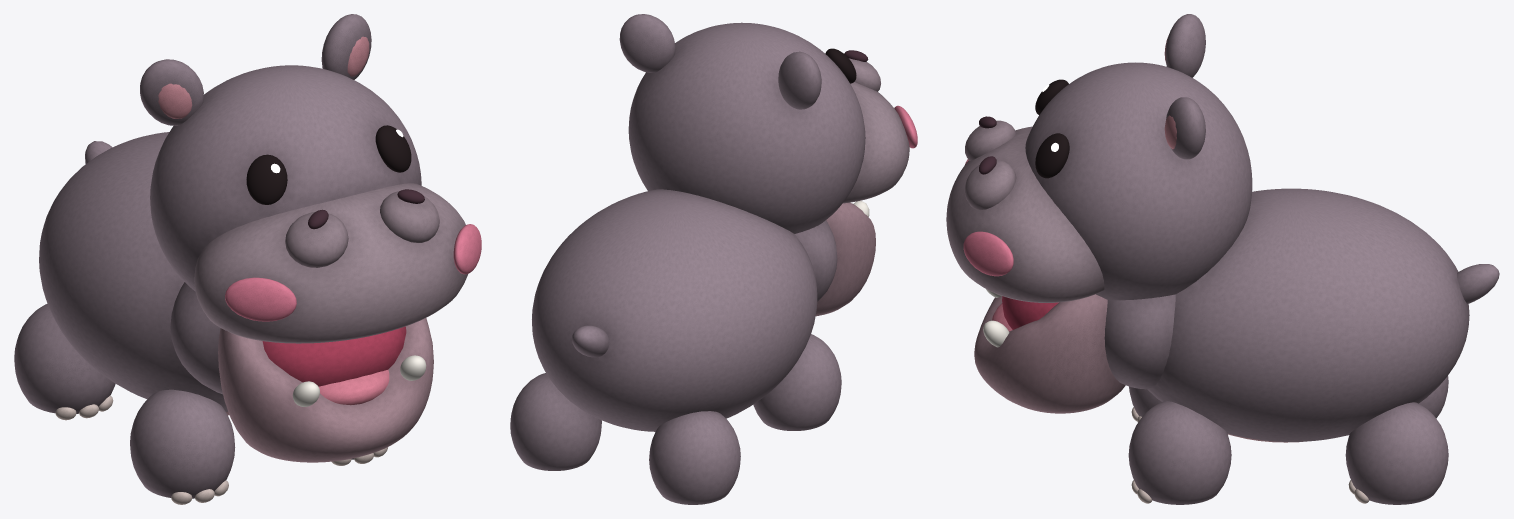
The model's file is moodeng.glb.
The picture shows the model from 3 angles, left to right: view 1: azimuth 30°, elevation 25°; view 2: azimuth 150°, elevation 25°; view 3: azimuth 270°, elevation 25°; orthographic projection. The views are drawn at different scales.
Visible parts, largest first — view 1: skin, snout, chin, inner, blush, eye, earin, tongue, nail, tooth, nostril; view 2: skin, snout, chin, eye; view 3: skin, snout, chin, blush, eye, inner.
Boxes of the visible parts, x1=… form: skin: x1=14, y1=14, x2=421, y2=498; snout: x1=194, y1=183, x2=467, y2=343; chin: x1=218, y1=318, x2=433, y2=462; inner: x1=262, y1=326, x2=406, y2=386; blush: x1=225, y1=224, x2=481, y2=321; eye: x1=246, y1=125, x2=411, y2=204; earin: x1=158, y1=36, x2=369, y2=118; tongue: x1=319, y1=370, x2=389, y2=405; nail: x1=55, y1=395, x2=387, y2=504; tooth: x1=292, y1=355, x2=426, y2=406; nostril: x1=308, y1=189, x2=424, y2=229; skin: x1=510, y1=14, x2=865, y2=504; snout: x1=843, y1=58, x2=909, y2=203; chin: x1=815, y1=202, x2=875, y2=316; eye: x1=825, y1=48, x2=856, y2=83; skin: x1=1025, y1=14, x2=1499, y2=504; snout: x1=946, y1=120, x2=1104, y2=302; chin: x1=974, y1=294, x2=1125, y2=413; blush: x1=963, y1=159, x2=1013, y2=276; eye: x1=1035, y1=79, x2=1069, y2=178; inner: x1=1002, y1=296, x2=1058, y2=329.
Size of the model in its own units: 0.104 by 0.1585 by 0.1988.
13 materials, 9 textured.
